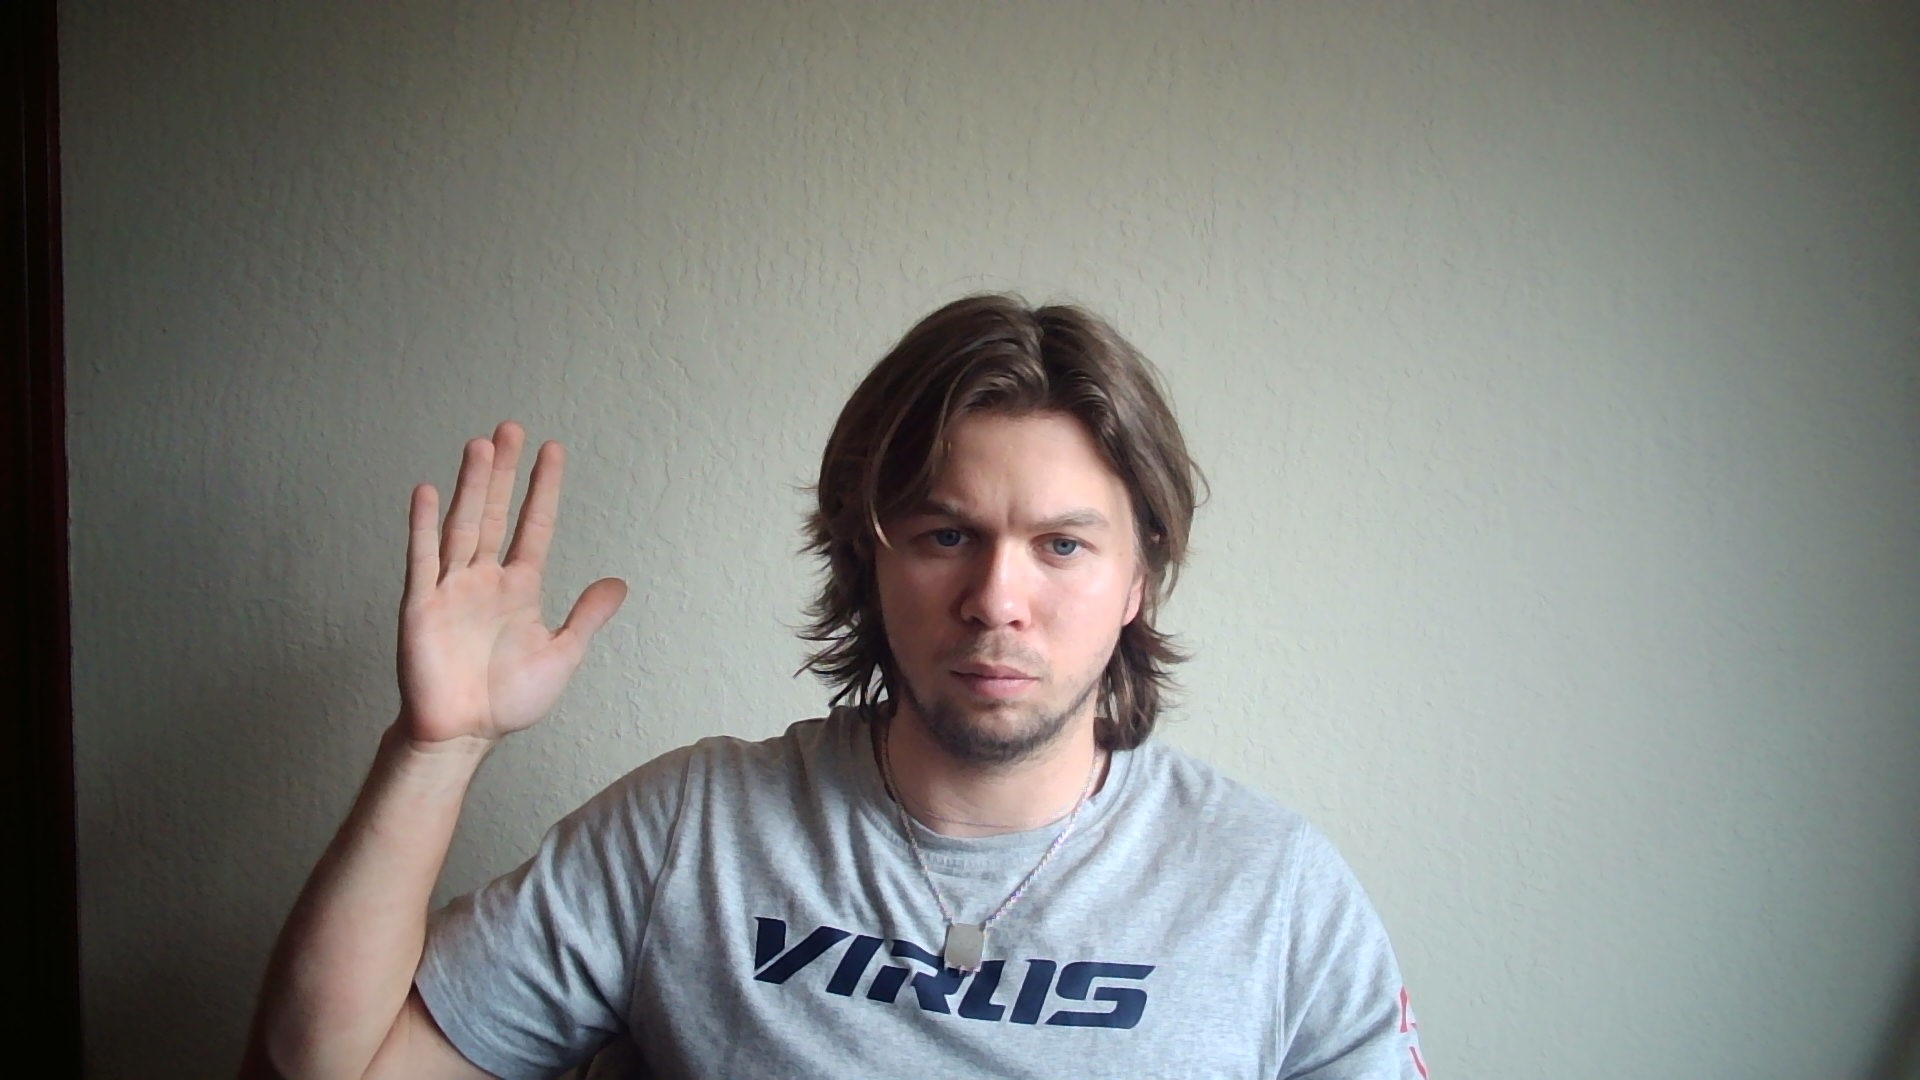hello: (398, 419, 626, 746)
